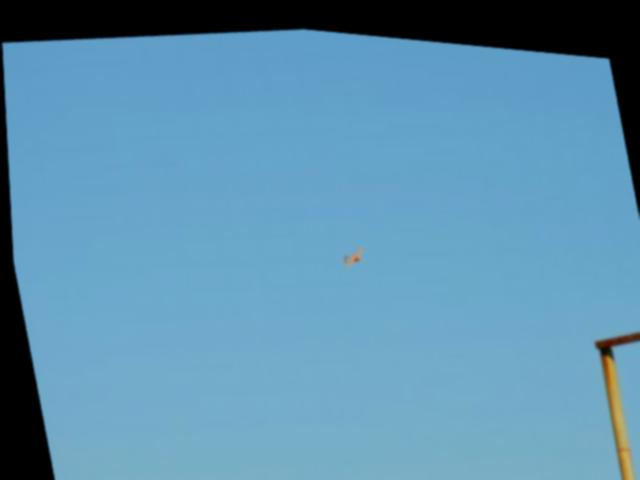iha: (331, 236, 365, 264)
